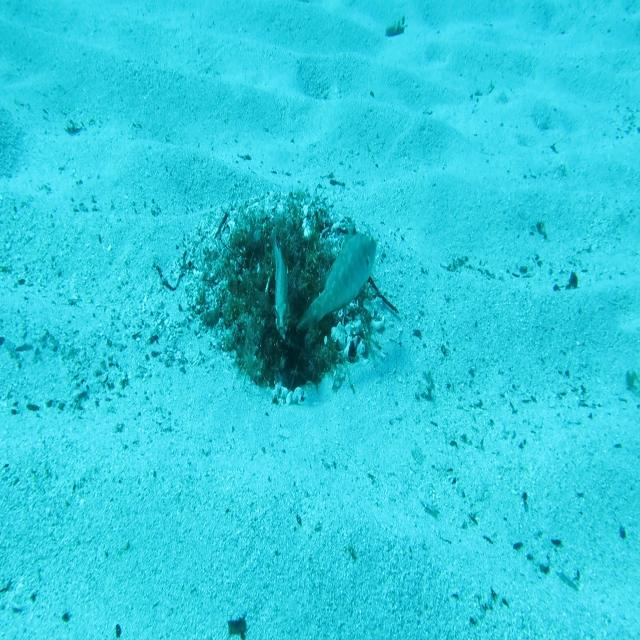BK_SW: (293, 221, 377, 335)
core_nest: (254, 217, 314, 249)
female: (271, 220, 289, 342)
nest: (182, 182, 388, 414)
